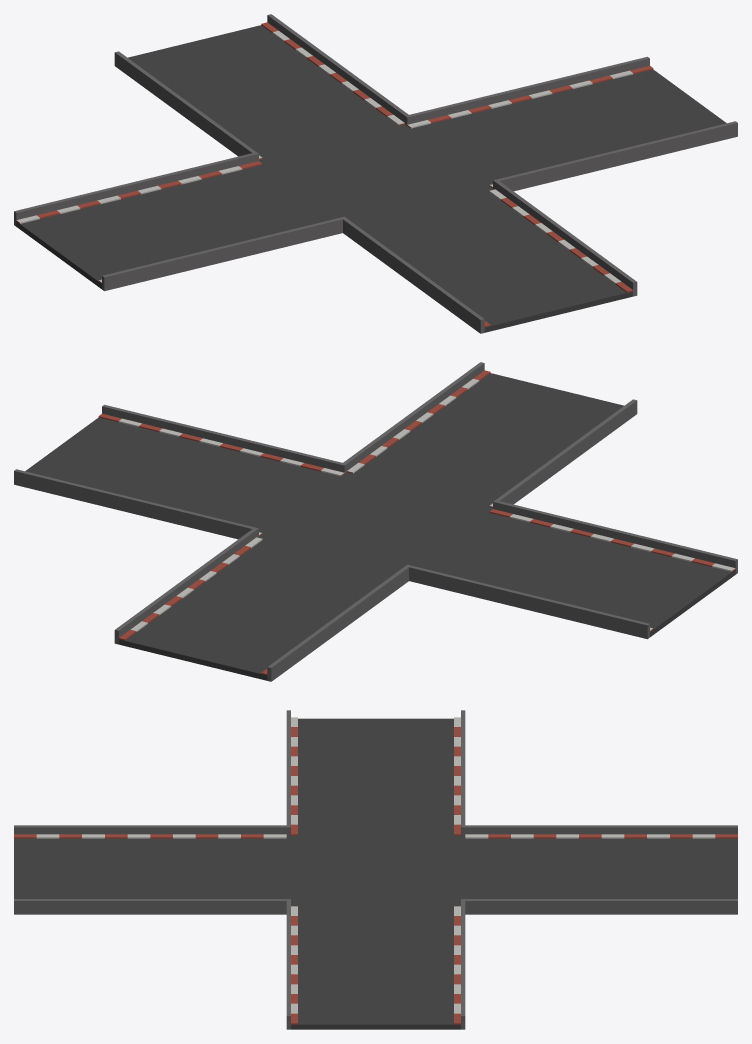
The model's file is tp-crossroads.glb.
3 views of the same model, one above another, from view 1: azimuth 30°, elevation 25°; view 2: azimuth 150°, elevation 25°; view 3: azimuth 270°, elevation 25° (orthographic).
Parts seen in each view (by area): view 1: tp-crossroads; view 2: tp-crossroads; view 3: tp-crossroads.
Boxes of the visible parts, box(x1,y1,x2,y2) form: tp-crossroads: box(14, 14, 737, 333); tp-crossroads: box(14, 362, 737, 681); tp-crossroads: box(14, 710, 737, 1029).
Size of what is drawn, in the model's own units: 62.42 by 1.3 by 62.42.
Materials: 1 (1 with a texture image).
